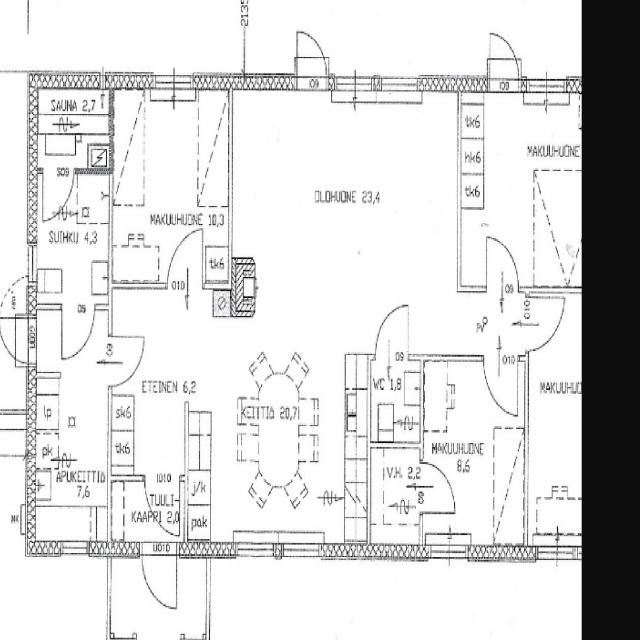door: (142, 544, 176, 610), (525, 297, 564, 350), (167, 230, 202, 289), (483, 355, 518, 413), (145, 475, 179, 534), (420, 462, 458, 514), (375, 304, 408, 360), (108, 336, 144, 386), (297, 27, 326, 88), (62, 304, 94, 359), (486, 237, 518, 292), (489, 28, 518, 88), (42, 169, 74, 222), (0, 317, 35, 364)
